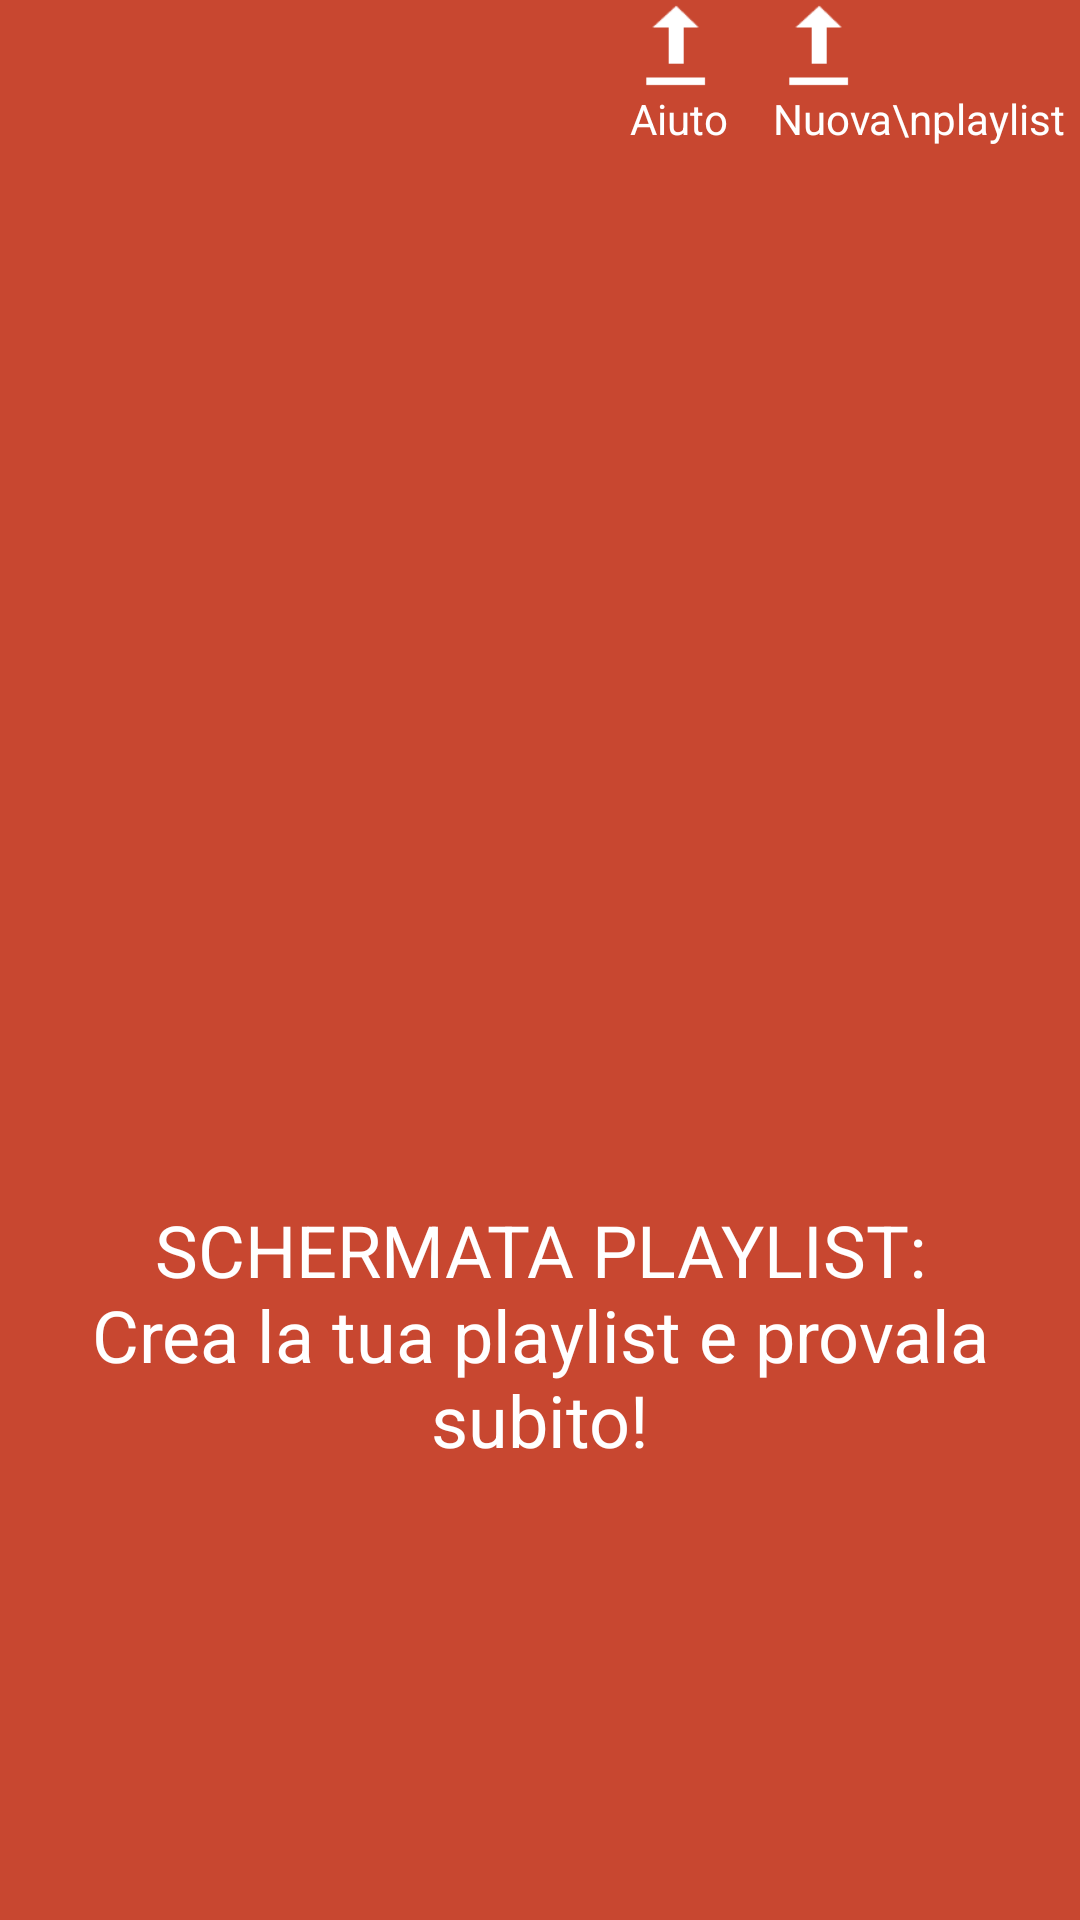

Icons on this 1080*1920 Android screen, each with its box as Rect(x1, y1, x2, y2):
upload: Rect(646, 6, 705, 85), Rect(789, 6, 848, 85)
